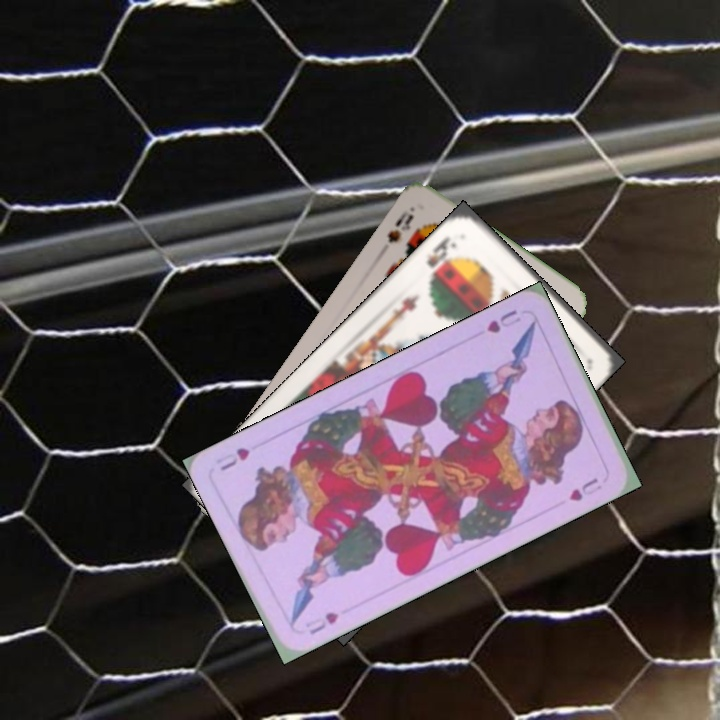HU: (483, 305, 524, 336), (301, 608, 341, 638)
S8: (383, 207, 417, 246)
SK: (422, 232, 460, 283)
